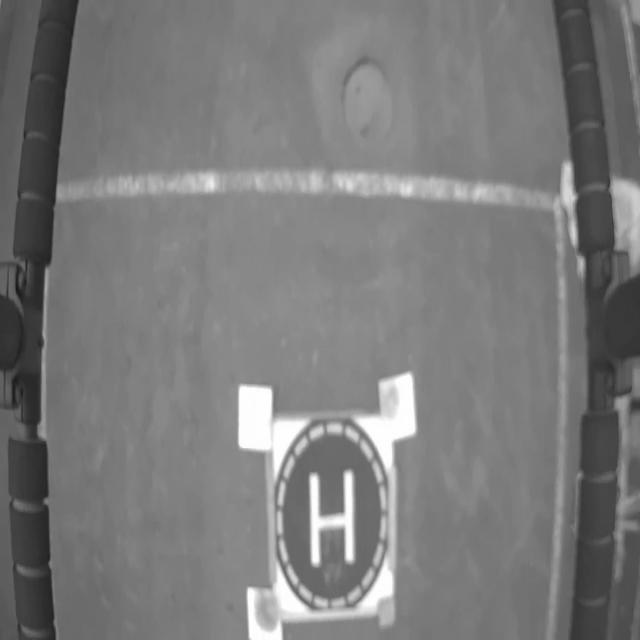Helipad: (308, 467, 356, 566)
